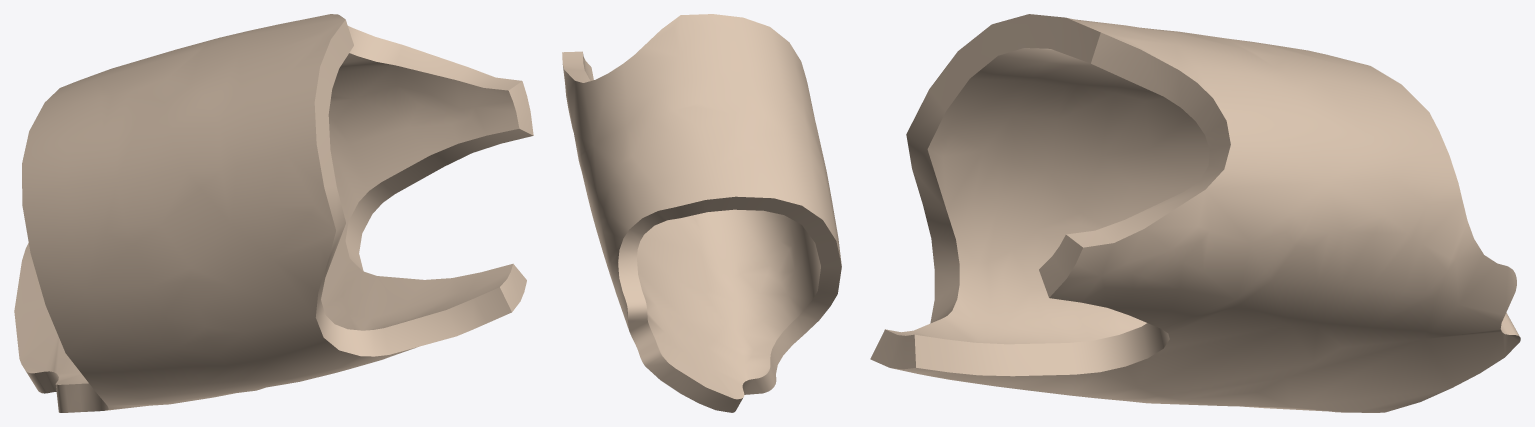
Rendered from l_hand_TP_0.obj.
3 views of the same model, side by side, from view 1: azimuth 30°, elevation 25°; view 2: azimuth 150°, elevation 25°; view 3: azimuth 270°, elevation 25° (orthographic). The views are drawn at different scales.
Bounding box in the file's own units: 35.49 × 32.07 × 38.47.
